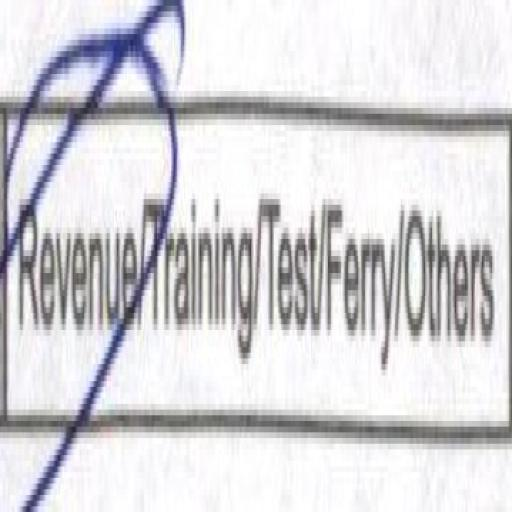check: (0, 0, 143, 497)
